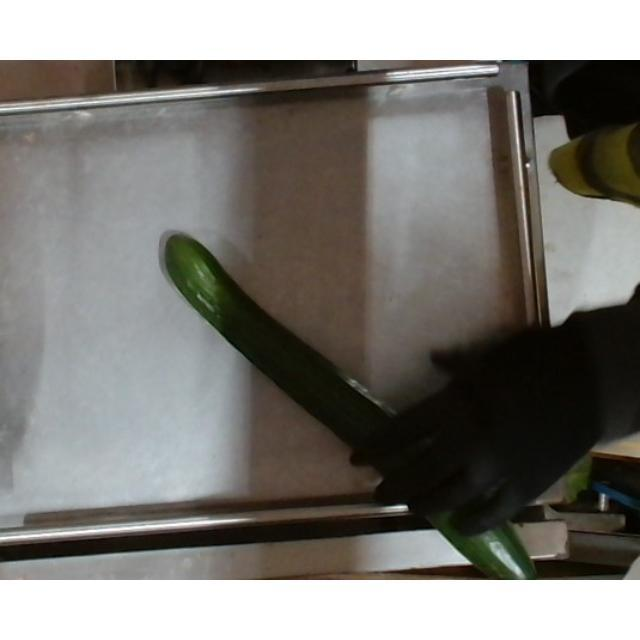cucumber: (166, 230, 604, 578)
